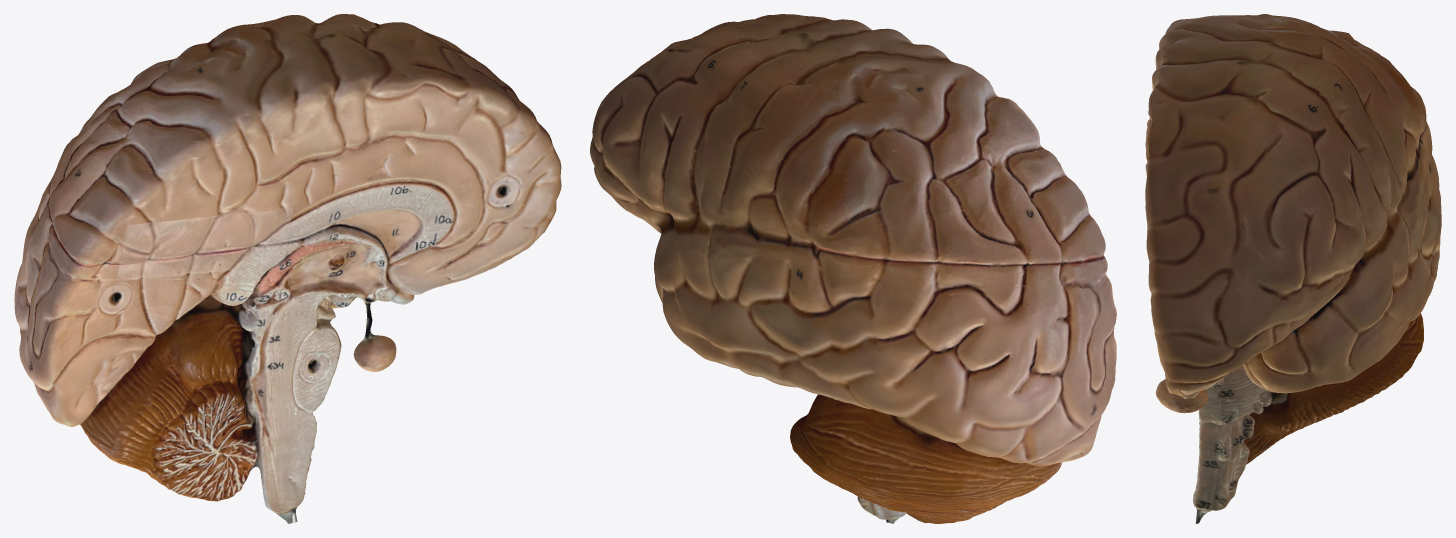
Rendered from brain-midsagittal.glb.
3 renders of one model, left to right at view 1: azimuth 30°, elevation 25°; view 2: azimuth 150°, elevation 25°; view 3: azimuth 270°, elevation 25°, orthographic. The views are drawn at different scales.
Visible parts, largest first — view 1: Object_4; view 2: Object_4; view 3: Object_4.
Boxes of the visible parts, left/top/right/bottom form: Object_4: left=14, top=14, right=561, bottom=523; Object_4: left=590, top=14, right=1116, bottom=523; Object_4: left=1145, top=14, right=1441, bottom=523.
Bounding box in the file's own units: 0.4004 × 0.3601 × 0.1968.
Materials: 1 (1 with a texture image).
